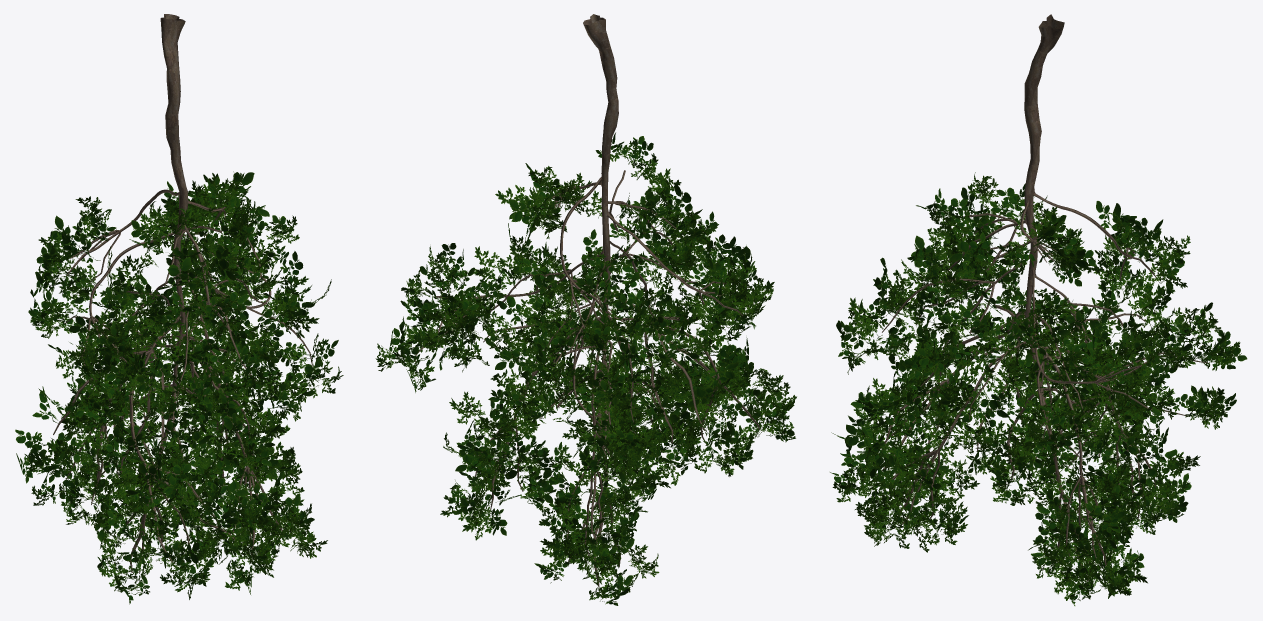
Rendered from BIO_VEG_Tree_Small_01A.fbx.
The picture shows the model from 3 angles, left to right: view 1: azimuth 30°, elevation 25°; view 2: azimuth 150°, elevation 25°; view 3: azimuth 270°, elevation 25°; orthographic projection. The views are drawn at different scales.
Visible parts, largest first — view 1: BIO_VEG_Tree_Small_01A; view 2: BIO_VEG_Tree_Small_01A; view 3: BIO_VEG_Tree_Small_01A.
Part boxes in pixels (x1=…): BIO_VEG_Tree_Small_01A: x1=15, y1=14, x2=343, y2=604; BIO_VEG_Tree_Small_01A: x1=375, y1=14, x2=796, y2=605; BIO_VEG_Tree_Small_01A: x1=830, y1=14, x2=1247, y2=605.
Bounding box in the file's own units: 441 × 783 × 501.
